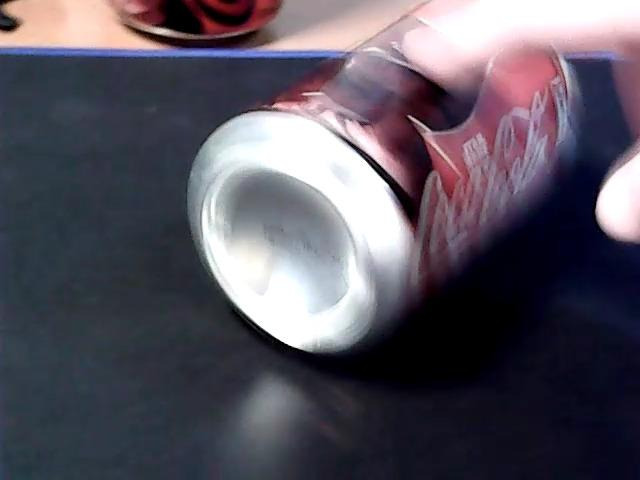coke: (186, 5, 581, 360), (113, 2, 284, 47)
